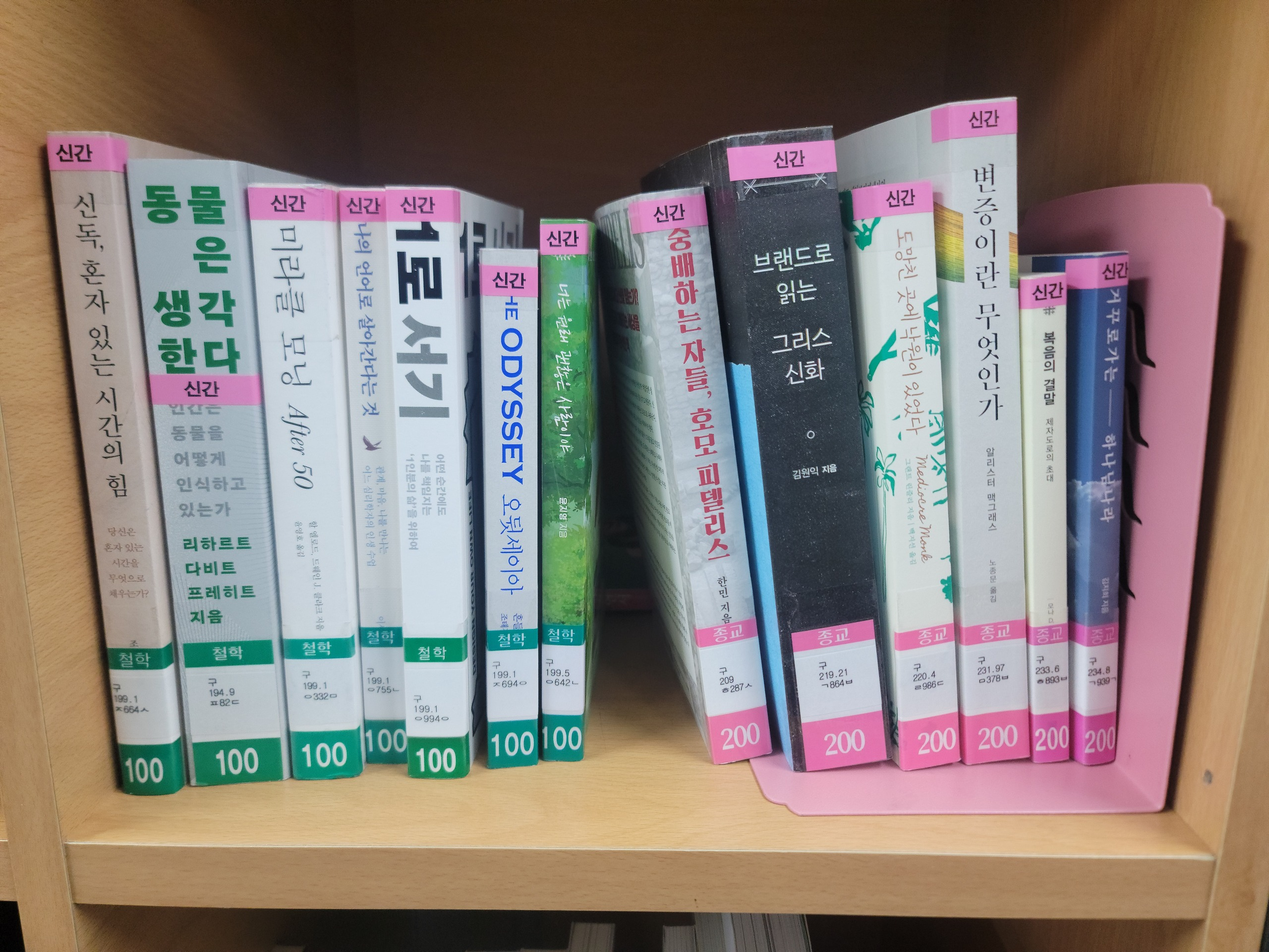book-spine: (727, 121, 892, 774), (125, 158, 287, 786), (44, 133, 181, 798), (637, 184, 775, 769), (246, 186, 361, 779), (852, 180, 962, 772), (946, 101, 1030, 766), (386, 187, 469, 778), (335, 190, 409, 778), (478, 249, 539, 775), (541, 224, 588, 774), (1080, 253, 1129, 767), (1019, 275, 1070, 765)
